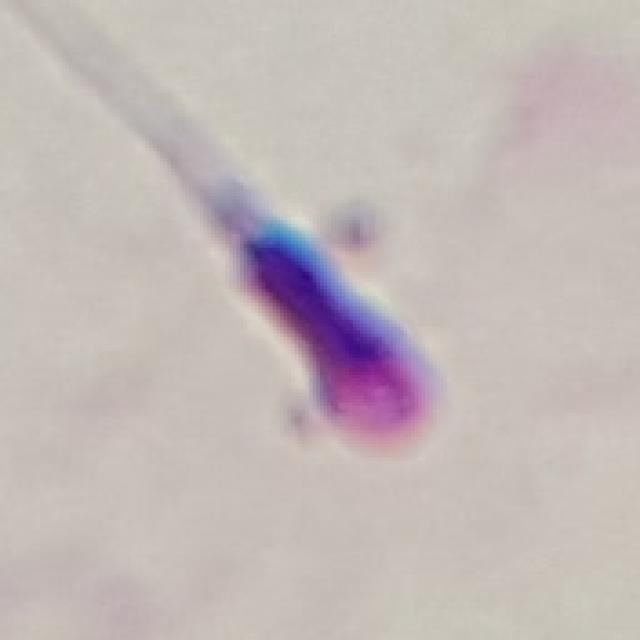abnormal sperm: (166, 114, 453, 464)
